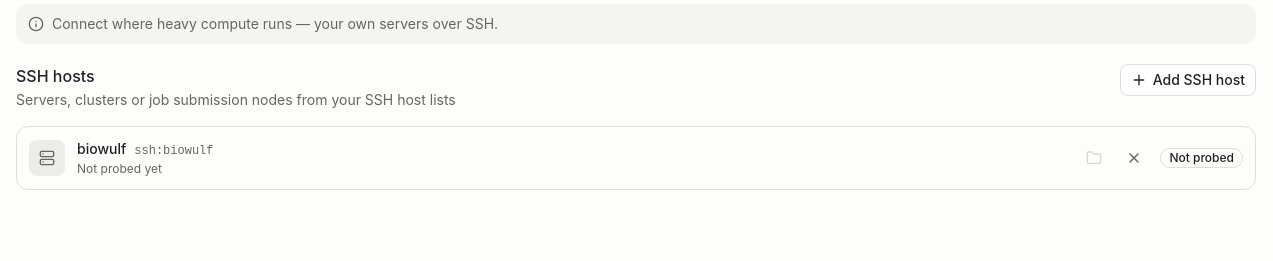
Test: ComputePanel › deletes a host and shows a confirmation toast
Click the button named "Remove biowulf". click: x=1134, y=158
box: x1=1120 y1=144 x2=1148 y2=172
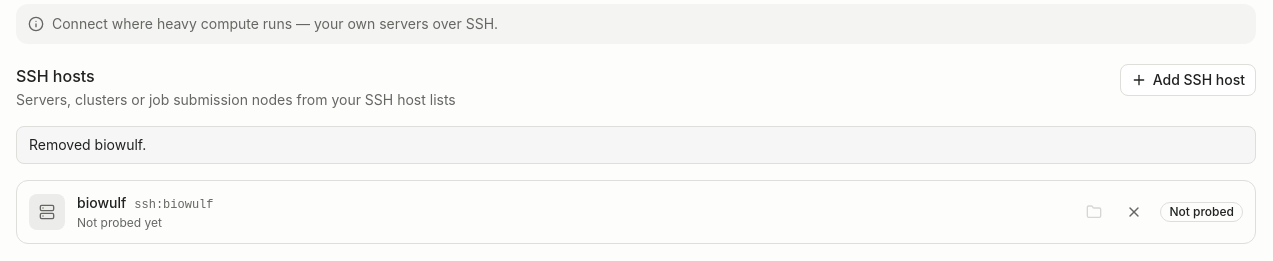
Expected: the text "Removed biowulf." is shown, x1=16 y1=126 x2=1256 y2=164
